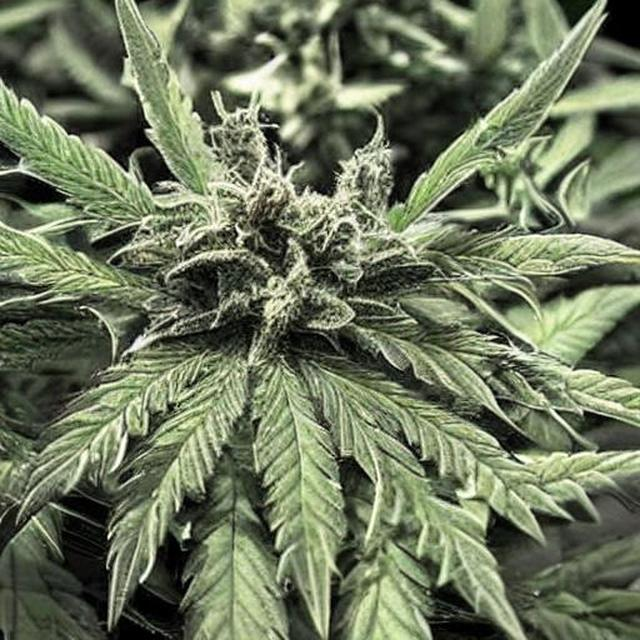Marijuana Plant: (44, 42, 514, 635)
